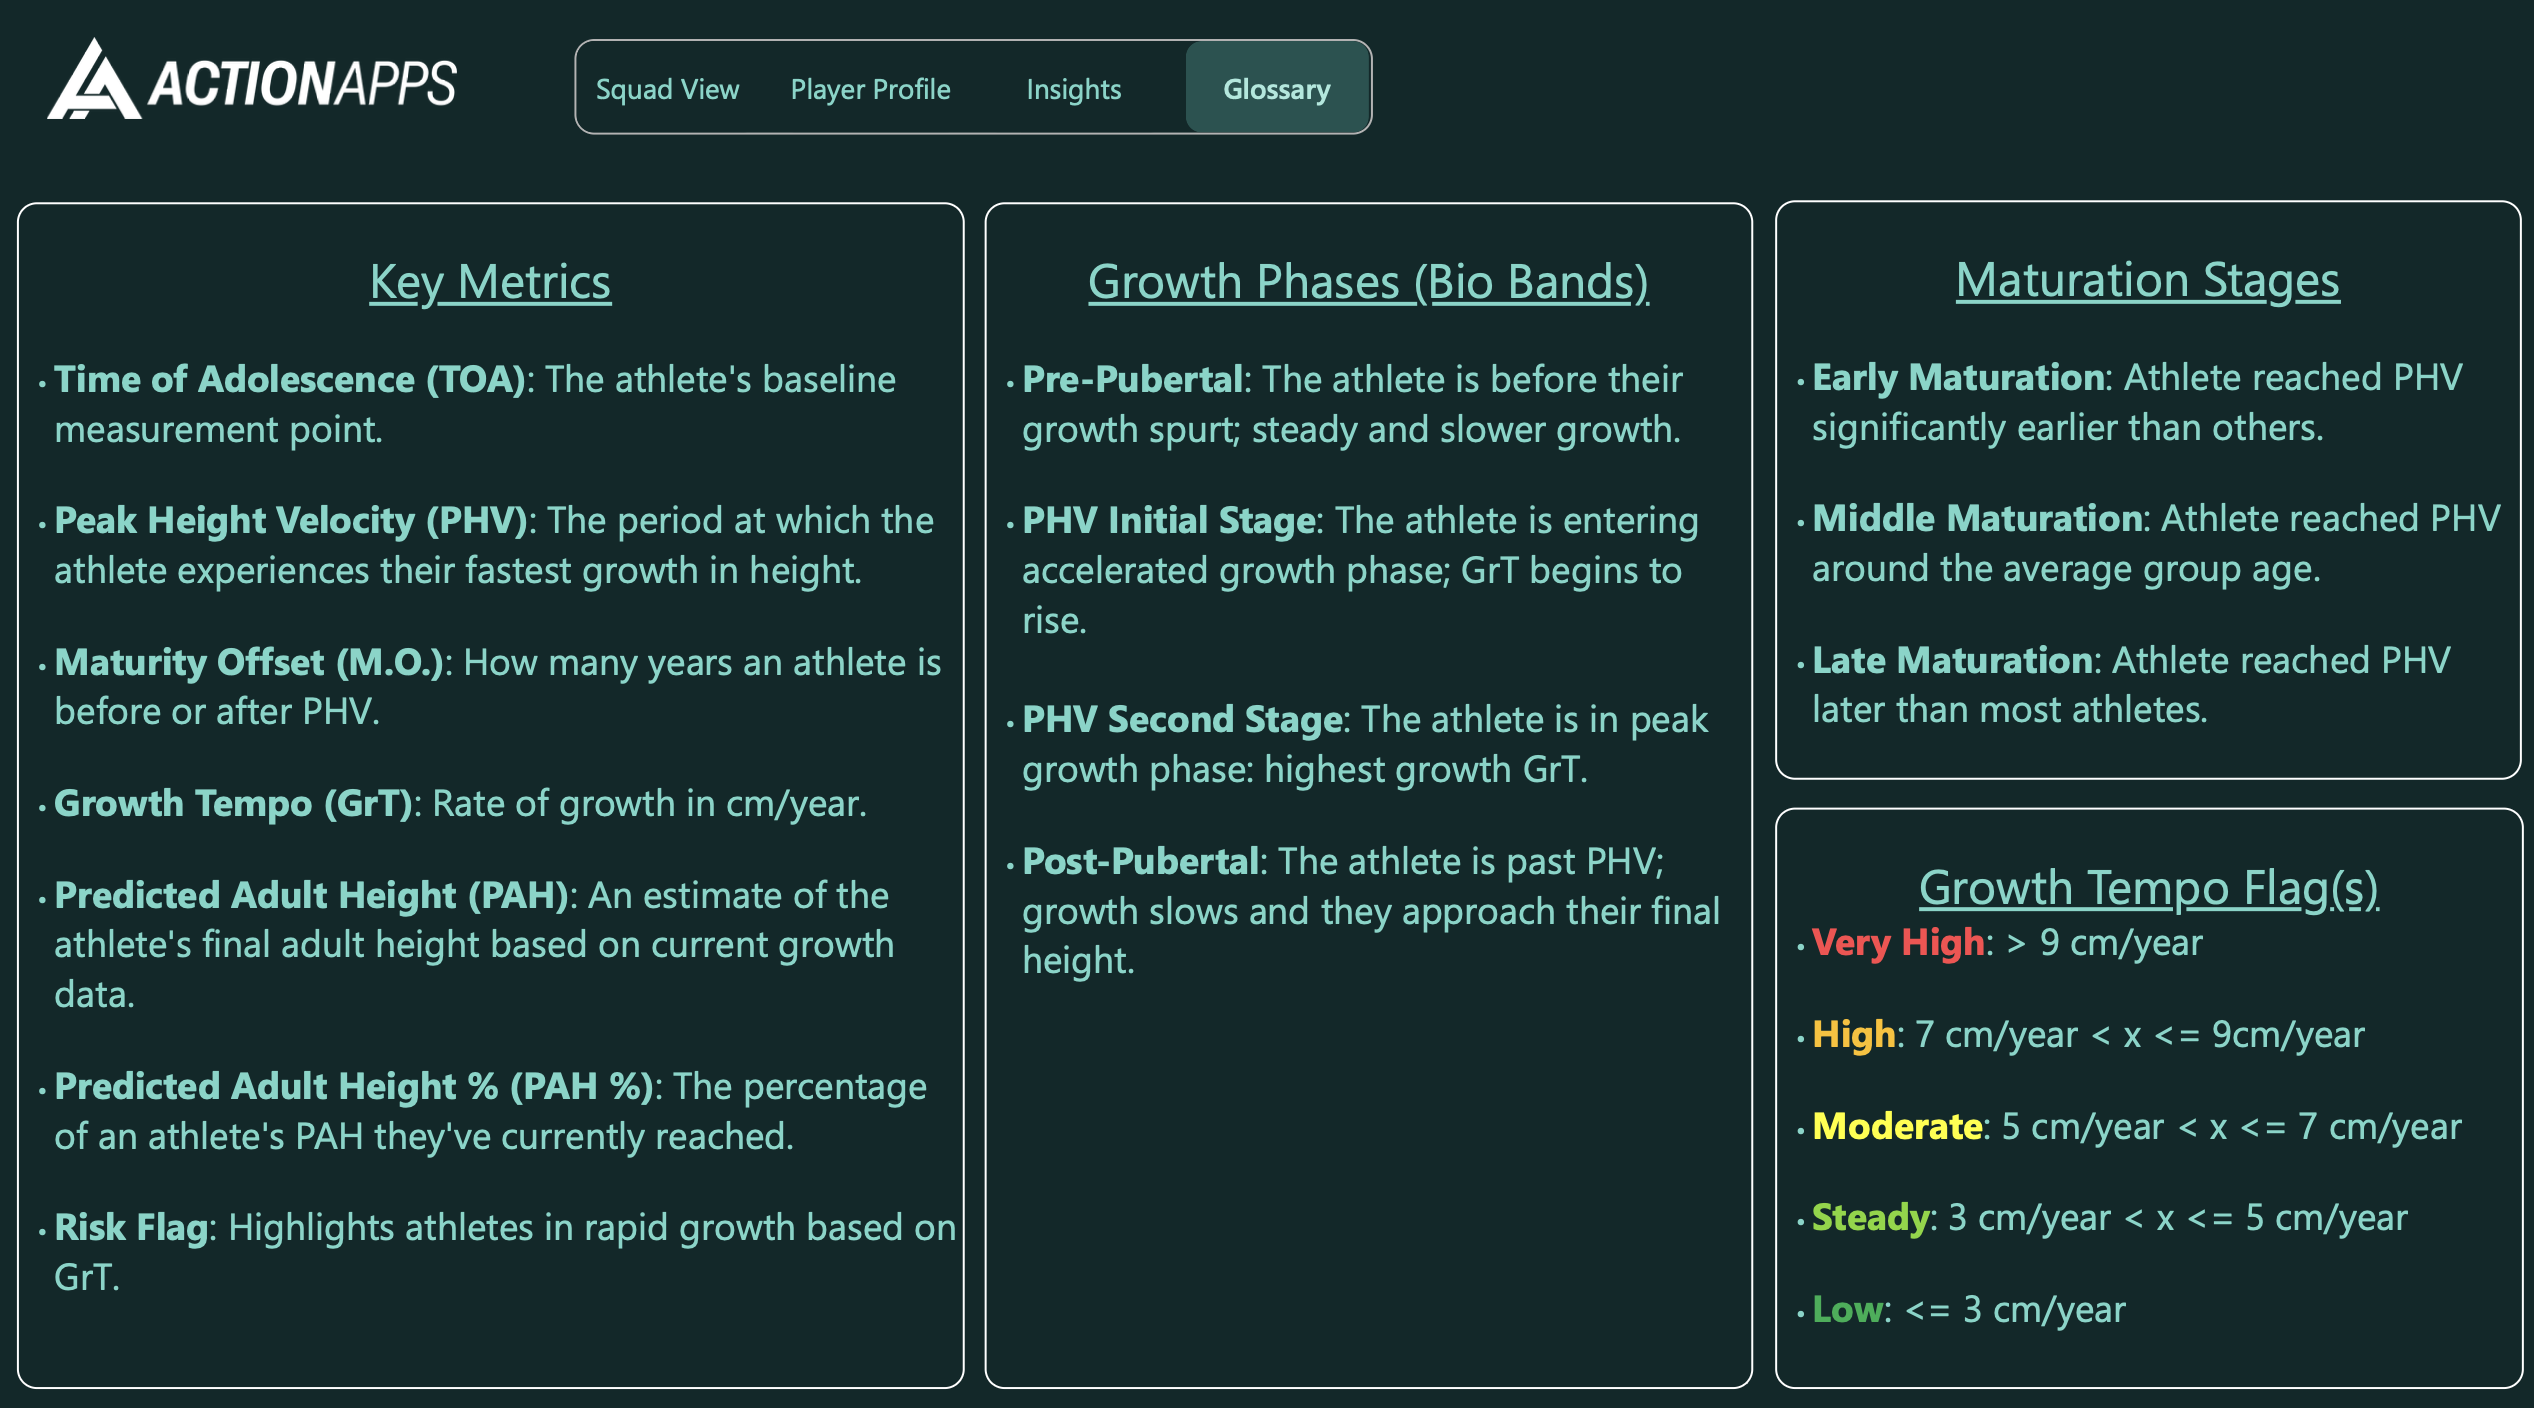

The page's visual inventory and layout, read from the dashboard file:
{"tool":"powerbi","page":{"name":"Glossary","canvas":[1280,720],"ordinal":3},"visuals":[{"type":"textbox","box":[10,104.8,475.9,595.6],"z":0},{"type":"textbox","box":[495.8,104.8,386.1,595.6],"z":1000},{"type":"textbox","box":[892.5,104.5,374.9,291],"z":2000},{"type":"textbox","box":[892.5,409.4,375.9,291.9],"z":3000},{"type":"pageNavigator","box":[290,23.3,401.3,48.5],"z":4000},{"type":"image","box":[25.1,15.3,205.6,54.8],"z":5000}]}

Visuals, with their boxes in screenshot pixels (x1, y1, x2, y2), scaled from the page's 1280x720 canvas onto the 2534x1408 screenshot:
textbox: 20, 205, 962, 1370
textbox: 982, 205, 1746, 1370
textbox: 1767, 204, 2509, 773
textbox: 1767, 801, 2511, 1371
pageNavigator: 574, 46, 1369, 140
image: 50, 30, 457, 137
